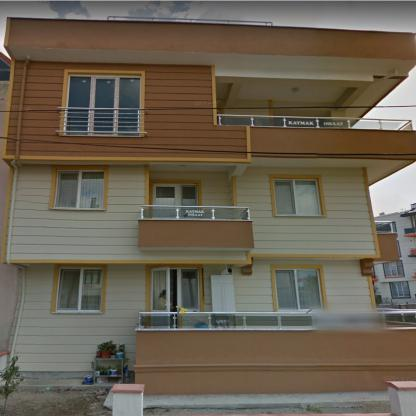door: (149, 267, 169, 311)
window: (65, 74, 140, 136), (55, 267, 102, 313), (54, 168, 103, 210), (275, 270, 322, 312), (273, 178, 324, 216), (152, 182, 198, 206), (178, 268, 199, 311), (384, 260, 404, 276), (390, 282, 410, 298)
